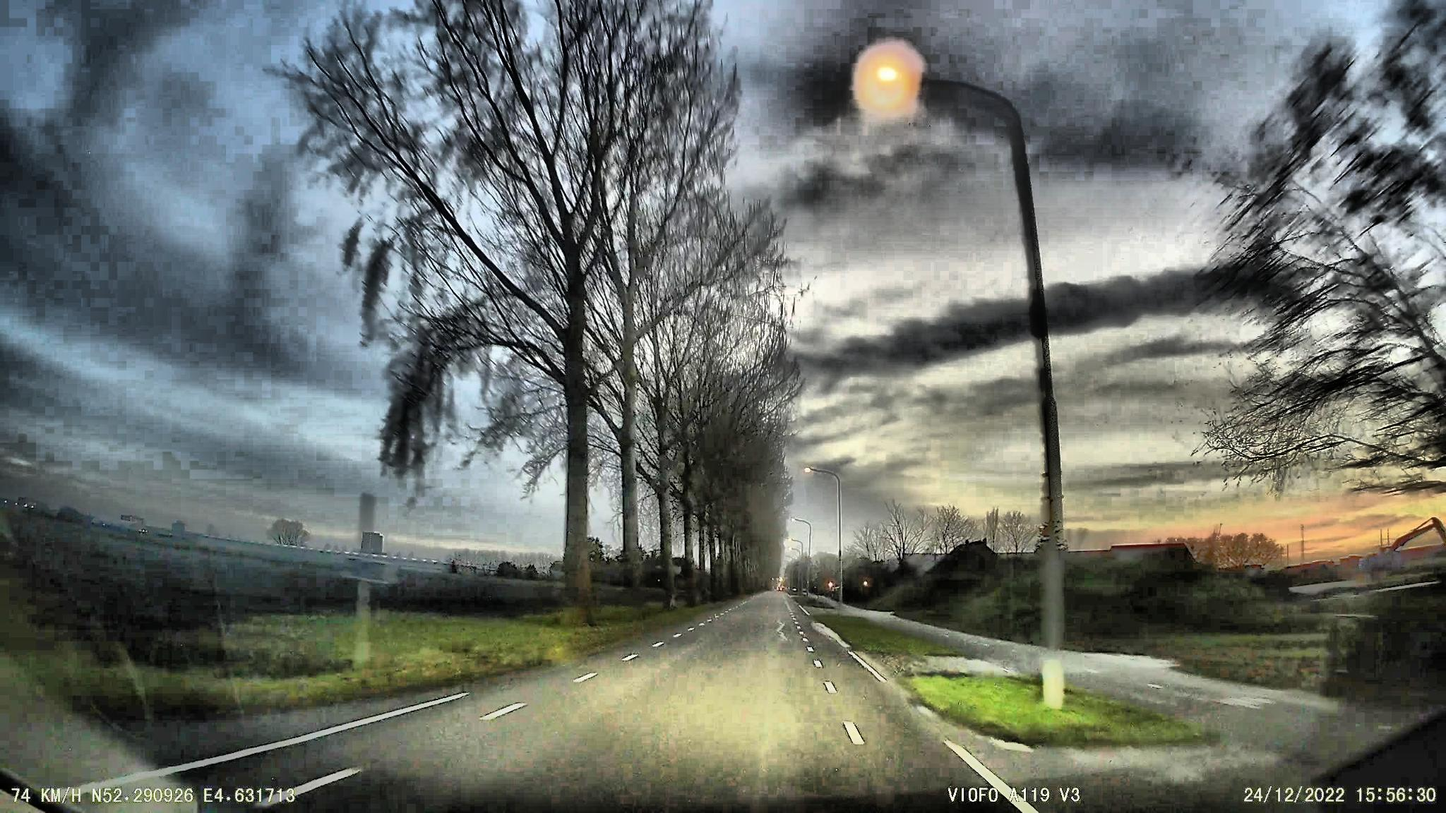Roads: (158, 593, 1040, 807)
